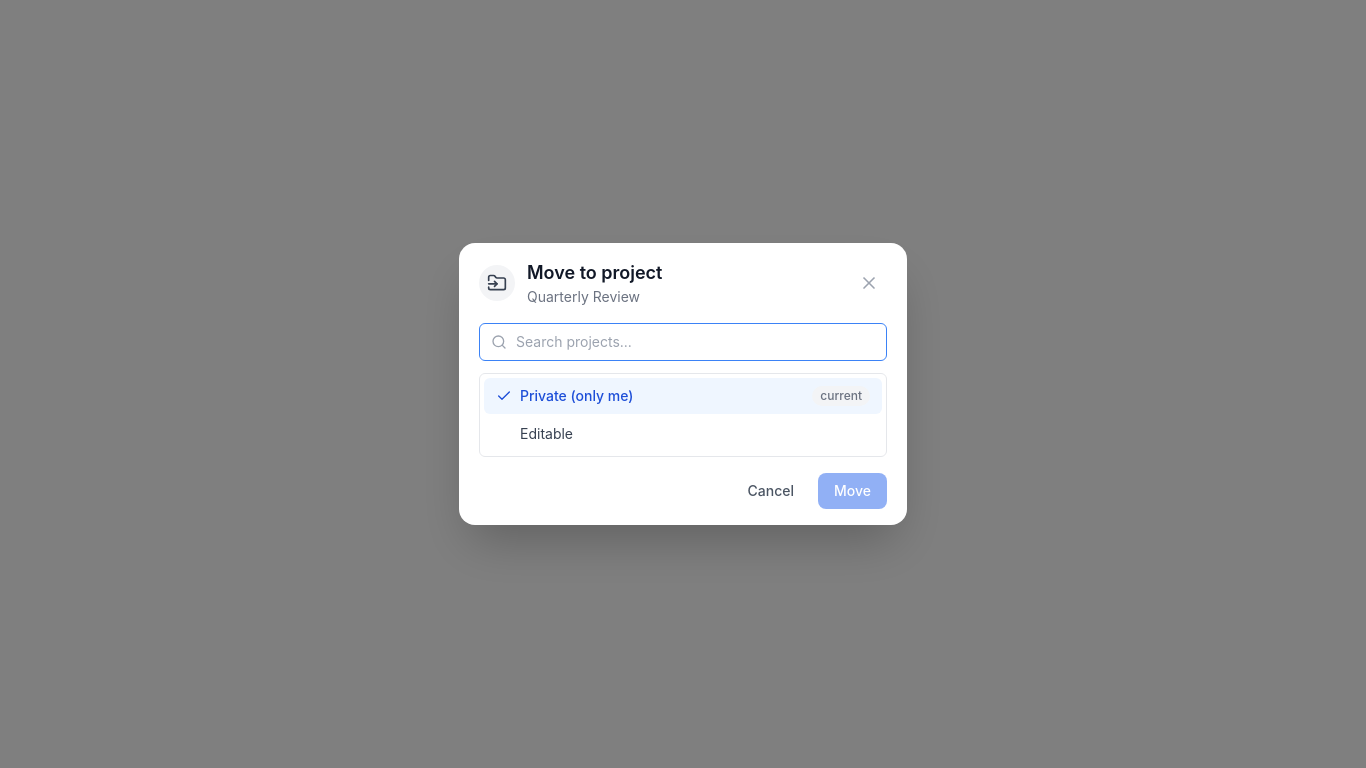
MoveToProjectModal selection and confirm › shows an inline error and stays open when the move fails
Click the button "Editable".
click(547, 434)  # box [484,416,882,452]
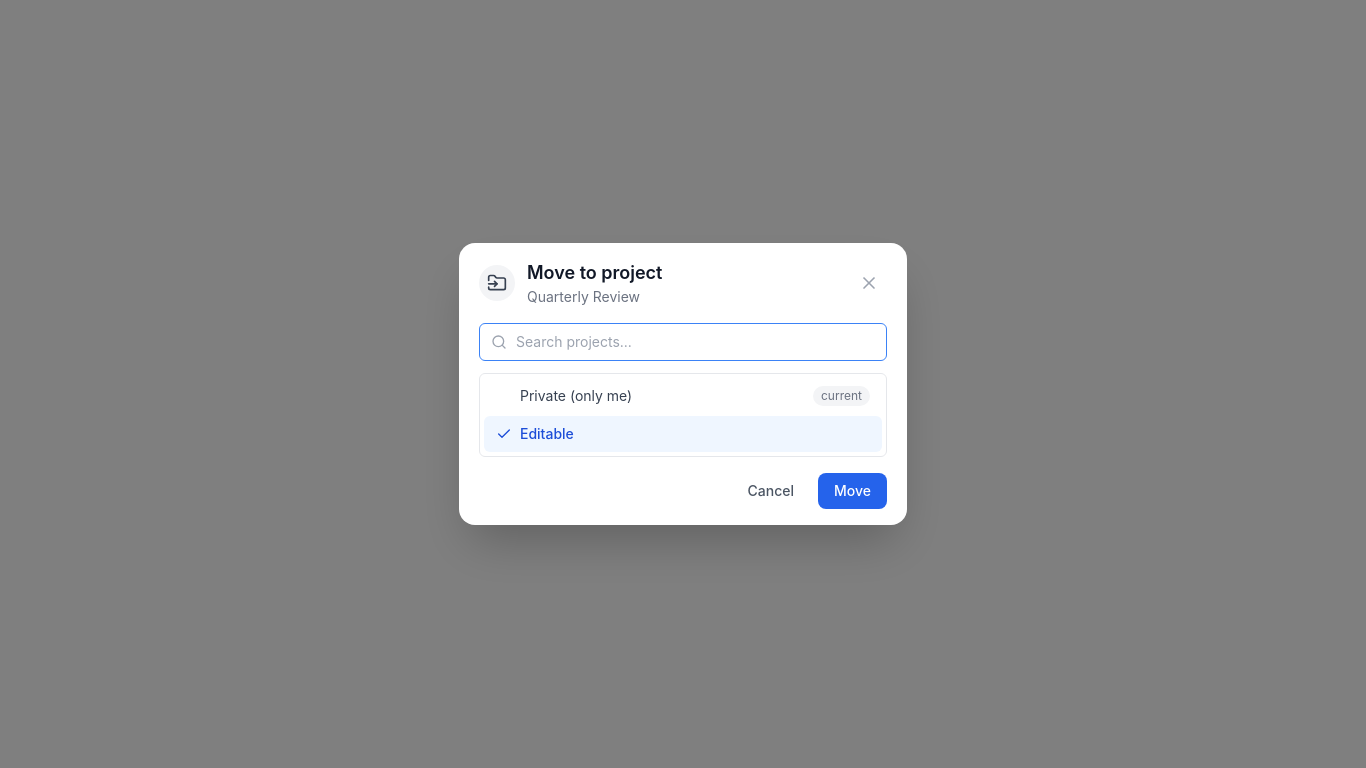
Click the button "Move".
click(852, 491)  # box [818,473,887,509]
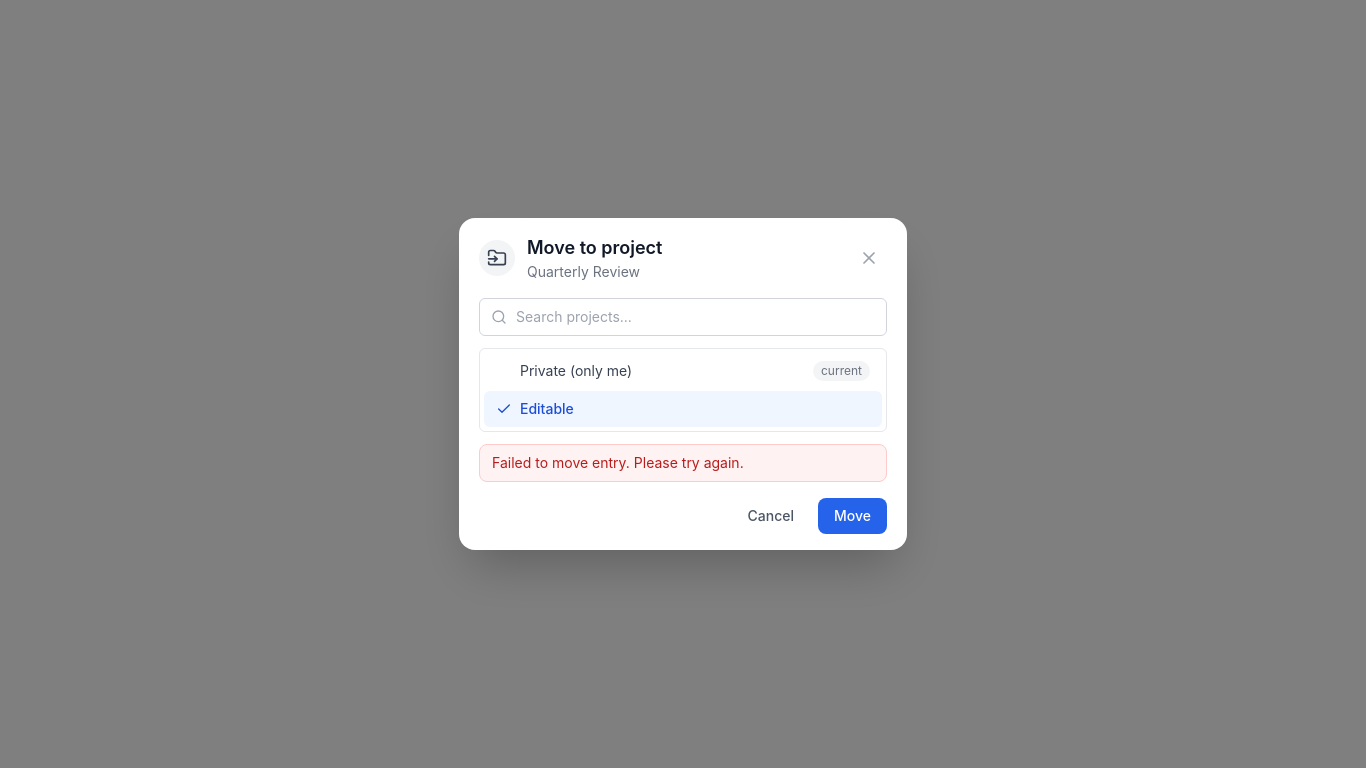
Expected: the text "Failed to move entry. Please try again." is shown, [479,444,887,482]
